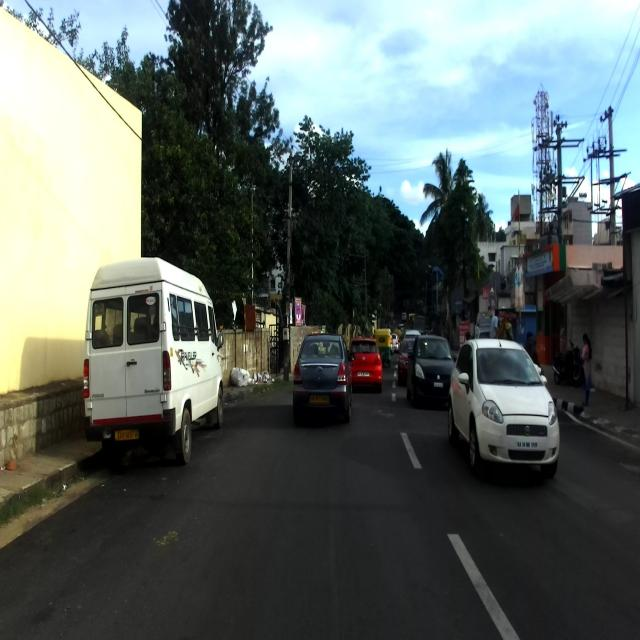car: (446, 336, 560, 478), (291, 331, 353, 428)
mini-bus: (82, 257, 227, 460)
